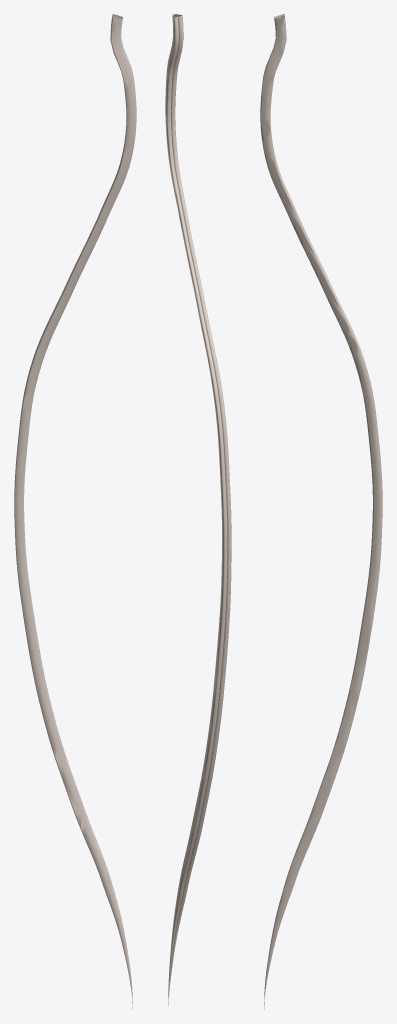
Rendered from nervoso-gracile-fasciculus.glb.
3 views of the same model, side by side, from view 1: azimuth 90°, elevation 25°; view 2: azimuth 210°, elevation 25°; view 3: azimuth 270°, elevation 25° (orthographic).
Parts seen in each view (by area): view 1: Gracile fasciculus; view 2: Gracile fasciculus; view 3: Gracile fasciculus.
Part boxes in pixels (x1,y1,x2,y2): Gracile fasciculus: [14, 14, 136, 1009]; Gracile fasciculus: [165, 14, 231, 1006]; Gracile fasciculus: [260, 14, 382, 1009].
Size of the model in its own units: 0.00437 by 0.4905 by 0.0547.
